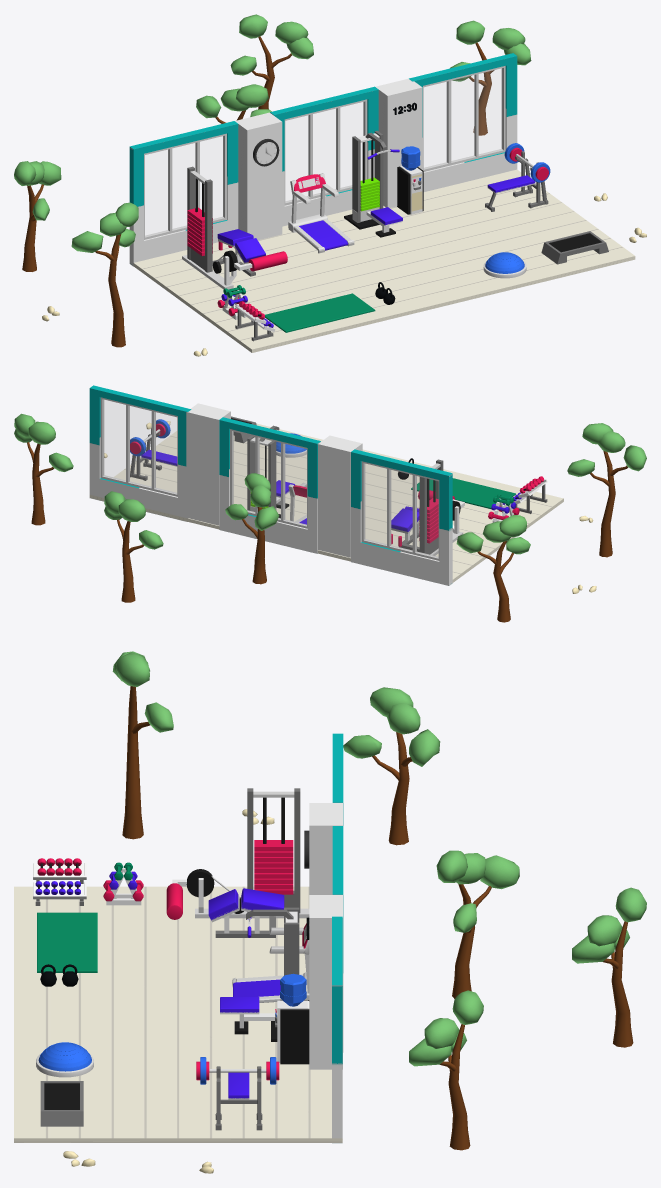
File: gym.FBX
3 renders of one model, top to bottom at view 1: azimuth 30°, elevation 25°; view 2: azimuth 150°, elevation 25°; view 3: azimuth 270°, elevation 25°, orthographic. The views are drawn at different scales.
Parts seen in each view (by area): view 1: Box341, Plane006, Box263, Box270, Plane004, Plane005, Box299, Box298, Box296, Box255, Box300, Box297 (+22 smaller); view 2: Box341, Box263, Plane006, Plane004, Box296, Box299, Plane005, Box298, Box270, Box269, Box300, Box297 (+22 smaller); view 3: Box341, Box298, Box255, Box299, Box270, Cylinder247, Box346, Cylinder326, Cylinder180, Cylinder177, Sphere014, Box271 (+21 smaller).
Boxes of the visible parts, box(x1,y1,x2,y2) form: Box341: box(133, 169, 635, 352); Plane006: box(424, 69, 501, 167); Box263: box(129, 121, 238, 266); Box270: box(235, 112, 282, 240); Plane004: box(145, 137, 222, 235); Plane005: box(286, 102, 363, 201); Box299: box(409, 53, 517, 191); Box298: box(375, 78, 422, 208); Box296: box(270, 86, 378, 226); Box255: box(265, 293, 375, 332); Box300: box(423, 66, 505, 171); Box297: box(284, 99, 367, 205); Box341: box(89, 423, 563, 582); Box263: box(351, 449, 452, 585); Plane006: box(103, 400, 176, 493); Plane004: box(365, 464, 437, 557); Box296: box(219, 417, 320, 553); Box299: box(89, 385, 191, 521); Plane005: box(233, 432, 306, 525); Box298: box(186, 403, 230, 525); Box270: box(318, 435, 362, 557); Box269: box(361, 461, 439, 560); Box300: box(100, 397, 177, 496); Box297: box(230, 429, 307, 528); Box341: box(14, 886, 342, 1142); Box298: box(309, 895, 342, 1069); Box255: box(37, 912, 97, 972); Box299: box(332, 916, 342, 1143); Box270: box(309, 803, 342, 894); Cylinder247: box(122, 686, 143, 839); Box346: box(280, 1000, 309, 1064); Cylinder326: box(611, 921, 633, 1047); Cylinder180: box(448, 1024, 470, 1150); Cylinder177: box(388, 732, 409, 845); Sphere014: box(38, 1042, 91, 1071); Box271: box(40, 1081, 83, 1126).
Bounding box in the file's own units: 20.65 × 4.82 × 14.96.
17 materials, 4 textured.
